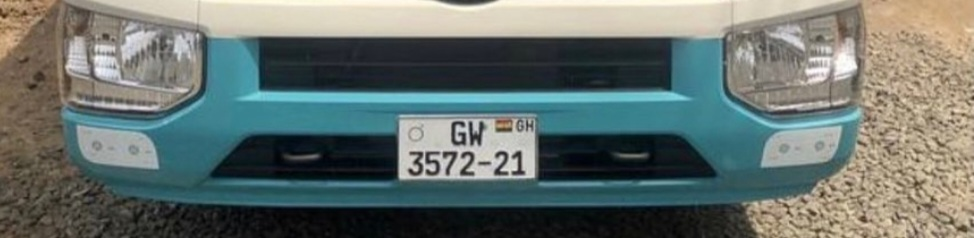number_ plates: (396, 114, 539, 183)
